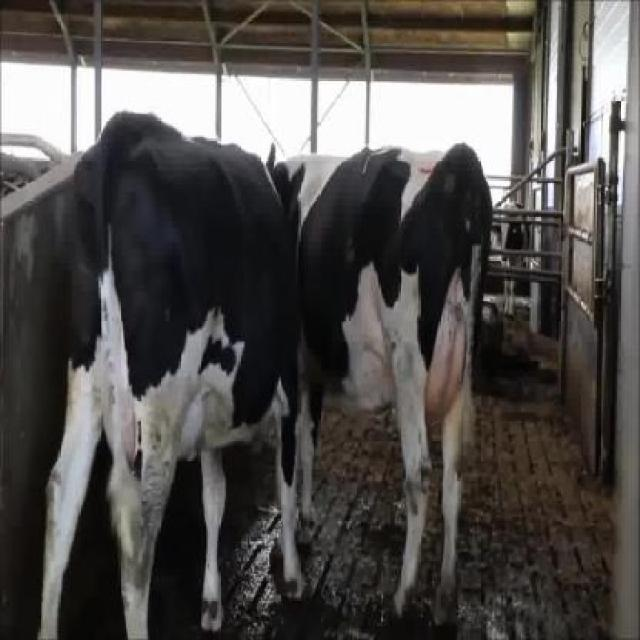Cow: (35, 110, 308, 638), (263, 142, 492, 630)
